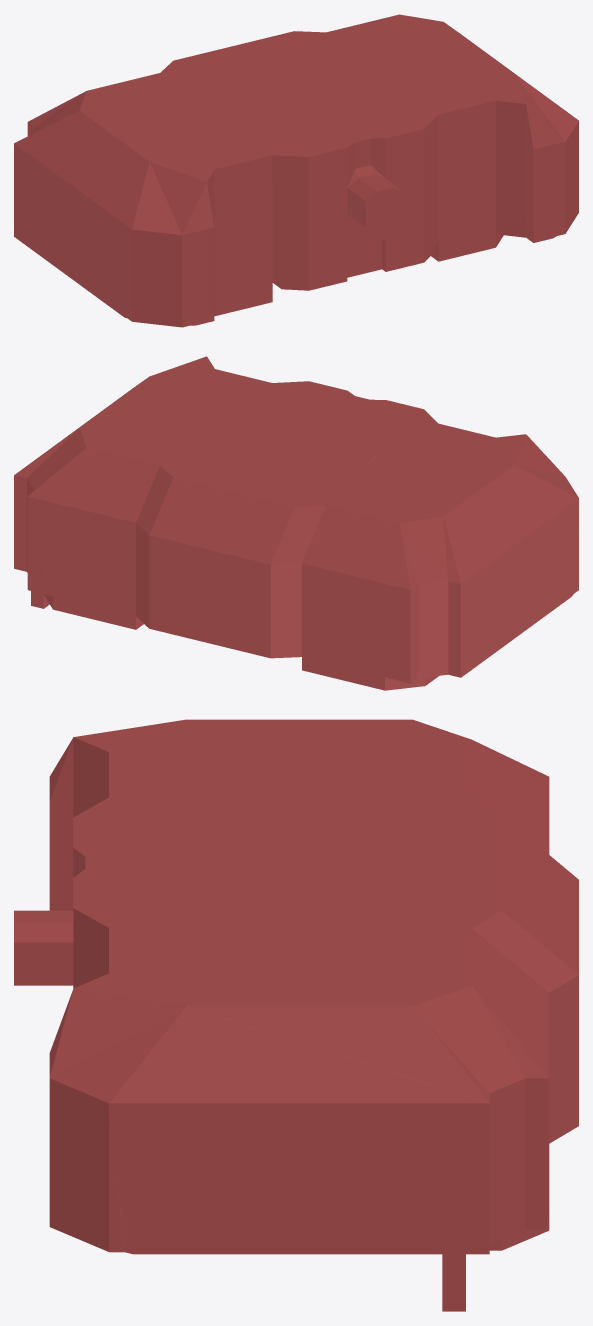
Rendered from main_garden.glb.
3 views of the same model, one above another, from view 1: azimuth 30°, elevation 25°; view 2: azimuth 150°, elevation 25°; view 3: azimuth 270°, elevation 25° (orthographic). The views are drawn at different scales.
Visible parts, largest first — view 1: main_garden_col; view 2: main_garden_col; view 3: main_garden_col.
Boxes of the visible parts, left/top/right/bottom form: main_garden_col: left=14, top=14, right=578, bottom=327; main_garden_col: left=14, top=356, right=578, bottom=690; main_garden_col: left=14, top=719, right=578, bottom=1311.
Size of the model in its own units: 7 by 2.6 by 4.75.
